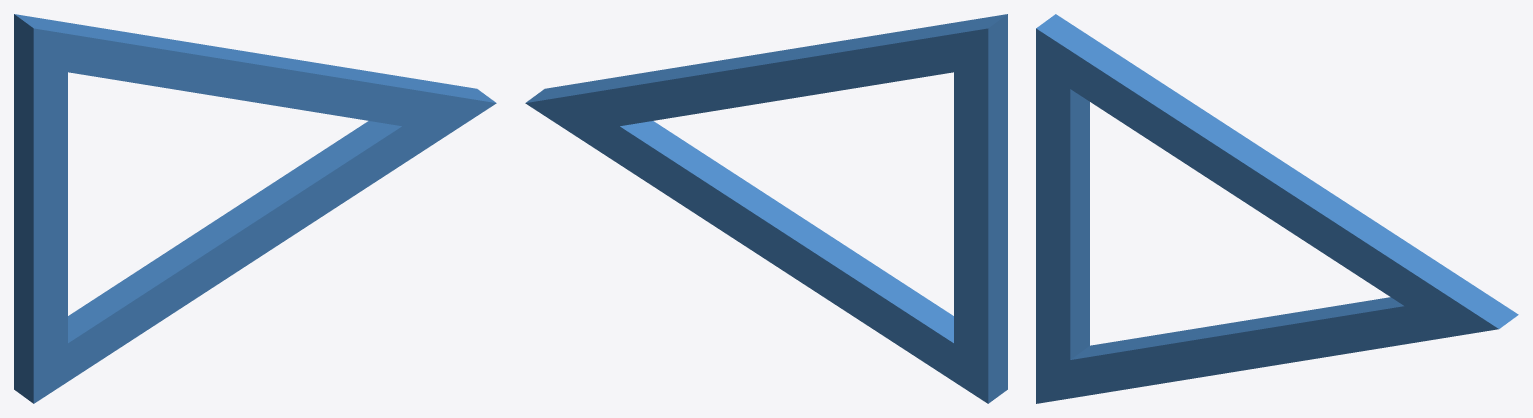
3 views of the same model, side by side, from view 1: azimuth 30°, elevation 25°; view 2: azimuth 150°, elevation 25°; view 3: azimuth 330°, elevation 25° (orthographic).
Visible parts, largest first — view 1: node_0f6e9cb9_652b_4120_a983_ba4fa72c6608_mesh0; view 2: node_0f6e9cb9_652b_4120_a983_ba4fa72c6608_mesh0; view 3: node_0f6e9cb9_652b_4120_a983_ba4fa72c6608_mesh0.
Part boxes in pixels (x1=…): node_0f6e9cb9_652b_4120_a983_ba4fa72c6608_mesh0: x1=14, y1=14, x2=496, y2=403; node_0f6e9cb9_652b_4120_a983_ba4fa72c6608_mesh0: x1=525, y1=14, x2=1007, y2=403; node_0f6e9cb9_652b_4120_a983_ba4fa72c6608_mesh0: x1=1036, y1=14, x2=1518, y2=403.
Bounding box in the file's own units: 136 × 105 × 10.
